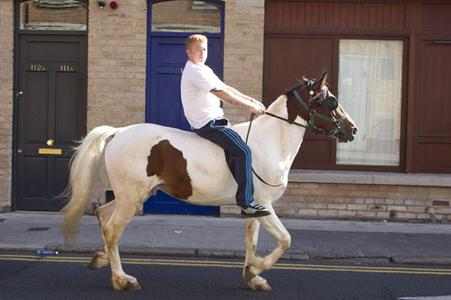person: (178, 33, 274, 217)
